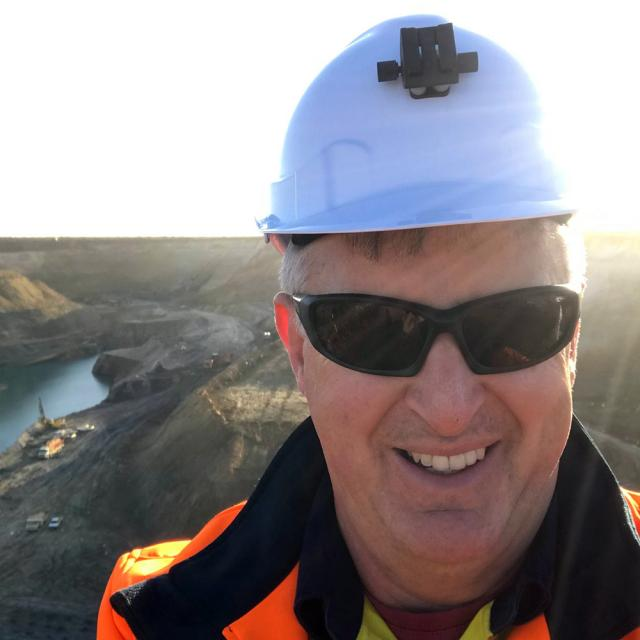goggles: (261, 271, 607, 386)
helmet: (256, 3, 586, 267)
vest: (110, 482, 640, 640)
